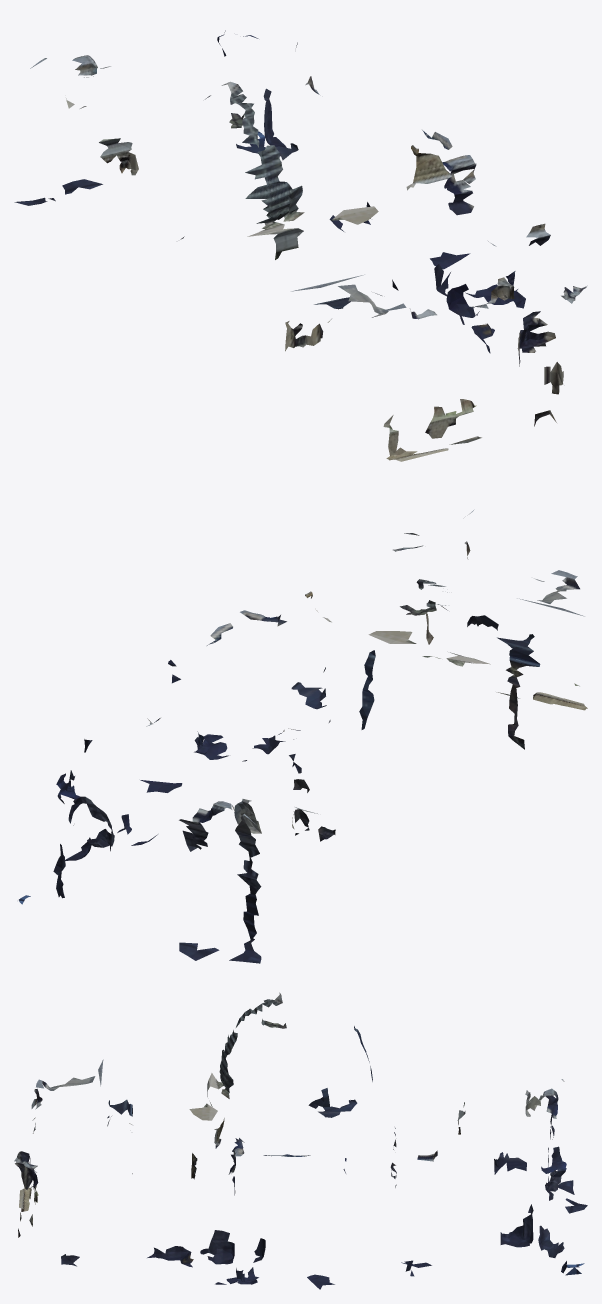
The model's file is hero-reichstag-3898_58196-material-5.glb.
3 views of the same model, one above another, from view 1: azimuth 30°, elevation 25°; view 2: azimuth 150°, elevation 25°; view 3: azimuth 270°, elevation 25° (orthographic). The views are drawn at different scales.
Parts seen in each view (by area): view 1: world; view 2: world; view 3: world.
Boxes of the visible parts, x1,y1,x2,y2 form: world: (14,30,587,461); world: (19,509,587,963); world: (14,992,587,1289).
Size of the model in its own units: 71.74 by 54.9 by 144.
1 material, 1 textured.
